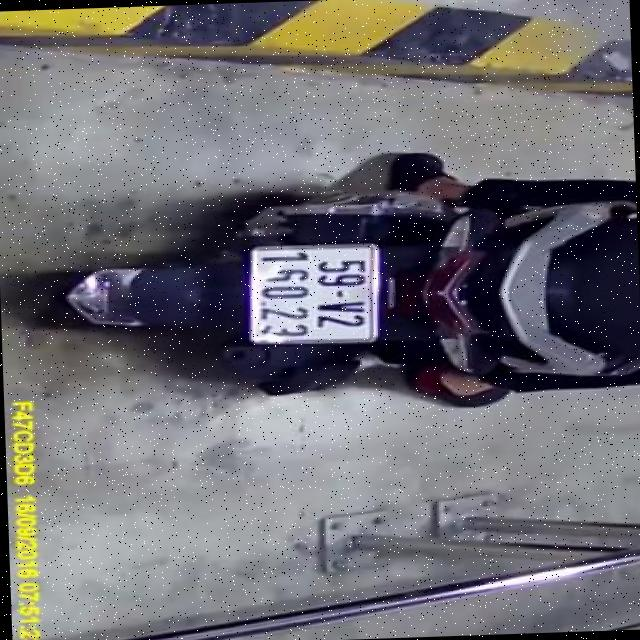license_plate: (240, 242, 381, 346)
